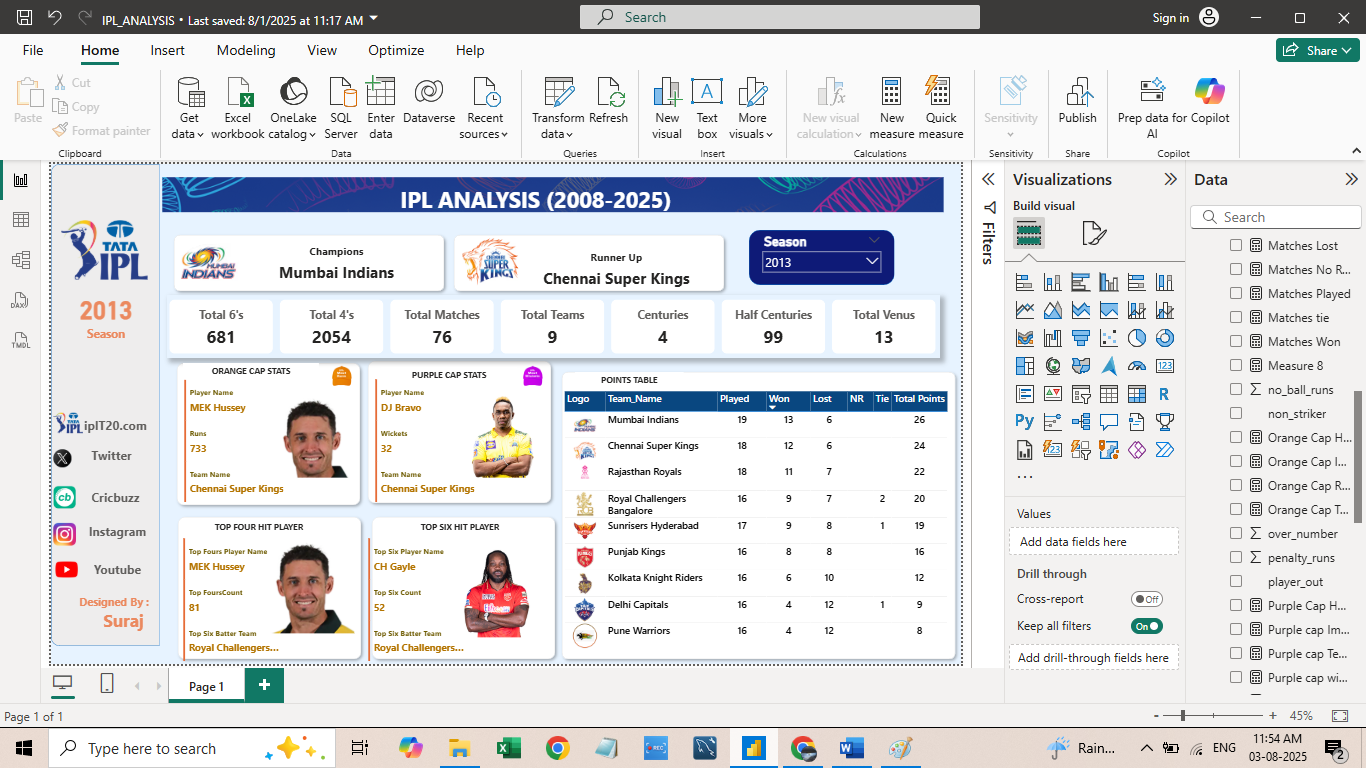

This screenshot's page, from the dashboard's own definition file:
{"tool":"powerbi","page":{"name":"Page 1","canvas":[2000,1100],"ordinal":0},"visuals":[{"type":"shape","box":[1535.4,144.4,320.2,120.7],"z":0},{"type":"shape","box":[1112.9,446.2,887.1,653.5],"z":1000},{"type":"shape","box":[266.2,426.8,424.6,334.4],"z":2000},{"type":"shape","box":[686.4,422.4,424.6,334.4],"z":3000},{"type":"shape","box":[875.6,145.2,616,145.2],"z":4000},{"type":"shape","box":[259.6,145.2,616,145.2],"z":5000},{"type":"image","box":[239.8,22,1729.2,90.2],"z":6000},{"type":"shape","box":[0,0,238.8,1060.4],"z":7000},{"type":"textbox","box":[741.4,39.6,651.2,88],"z":8000},{"type":"slicer","fields":{"Values":["ipl_matches_data.season"]},"box":[1556.4,147,280.8,118.1],"z":9000},{"type":"cardVisual","fields":{"Data":["ipl_matches_data.Season Winner"]},"box":[380.6,158.4,495,118.8],"z":10000},{"type":"cardVisual","fields":{"Data":["ipl_matches_data.Season Winner Logo"]},"box":[259.6,127.6,160.6,154],"z":11000},{"type":"cardVisual","fields":{"Data":["ipl_matches_data.Runner Up"]},"box":[996.6,171.6,495,118.8],"z":12000},{"type":"cardVisual","fields":{"Data":["ball_by_ball_data.Runnerup Logo"]},"box":[875.6,127.6,158.4,145.2],"z":13000},{"type":"cardVisual","fields":{"Data":["ball_by_ball_data.Total 6's","ball_by_ball_data.Total 4's","ball_by_ball_data.Total Matches","ball_by_ball_data.Total Teams","ball_by_ball_data.Centuries","ball_by_ball_data.Half Centuries","ball_by_ball_data.Total Venus"]},"box":[254.6,288.7,1700.8,139.1],"z":14000},{"type":"cardVisual","fields":{"Data":["ball_by_ball_data.Orange Cap Holder","ball_by_ball_data.Orange Cap Runs","ball_by_ball_data.Orange Cap Team Name"]},"box":[288.2,468.6,341,281.6],"z":15000},{"type":"textbox","box":[290.4,437.8,299.2,37.4],"z":16000},{"type":"cardVisual","fields":{"Data":["ball_by_ball_data.Orange Cap Image"]},"box":[457.6,495,250.8,200.2],"z":17000},{"type":"image","box":[589.6,437.8,101.2,57.2],"z":18000},{"type":"shape","box":[268.4,765.6,424.6,334.4],"z":19000},{"type":"shape","box":[695.2,765.6,424.6,334.4],"z":20000},{"type":"cardVisual","fields":{"Data":["ball_by_ball_data.Purple Cap Holder","ball_by_ball_data.Purple cap wicket","ball_by_ball_data.Purple cap Team"]},"box":[708.4,468.6,341,281.6],"z":21000},{"type":"textbox","box":[726,446.6,299.2,37.4],"z":22000},{"type":"cardVisual","fields":{"Data":["ball_by_ball_data.Purple cap Image"]},"box":[871.2,484,250.8,211.2],"z":23000},{"type":"image","box":[1009.8,437.8,101.2,57.2],"z":24000},{"type":"cardVisual","fields":{"Data":["ball_by_ball_data.Top Fours Player Name","ball_by_ball_data.Top FoursCount","ball_by_ball_data.Top Fours Batter Team"]},"box":[286,818.4,244.2,281.6],"z":25000},{"type":"textbox","box":[308,781,299.2,37.4],"z":26000},{"type":"cardVisual","fields":{"Data":["ball_by_ball_data.Top Fours Player Image"]},"box":[442.2,809.6,250.8,246.4],"z":27000},{"type":"cardVisual","fields":{"Data":["ball_by_ball_data.Top Six Player Name","ball_by_ball_data.Top Six Count","ball_by_ball_data.Top Six Batter Team"]},"box":[693,818.4,244.2,281.6],"z":28000},{"type":"textbox","box":[750.2,781,299.2,37.4],"z":29000},{"type":"cardVisual","fields":{"Data":["ball_by_ball_data.Top Six Player Image"]},"box":[860.2,818.4,250.8,246.4],"z":30000},{"type":"tableEx","fields":{"Values":["teams_data.image_url","teams_data.team_name","ball_by_ball_data.Matches Played","ball_by_ball_data.Matches Won","ball_by_ball_data.Matches Lost","ball_by_ball_data.Matches No Result","ball_by_ball_data.Matches tie","ball_by_ball_data.Total Points"]},"box":[1123.4,496.1,876.6,593.2],"z":31000},{"type":"textbox","box":[1152.2,456.7,238.8,39.4],"z":32000},{"type":"image","box":[0,519.7,75,100],"z":33000},{"type":"card","fields":{"Values":["ball_by_ball_data.Season"]},"box":[47.2,265.1,149.6,136.5],"z":34000},{"type":"actionButton","box":[47.2,530.2,191.6,89.2],"z":35000},{"type":"image","box":[18.4,39.4,200,299.2],"z":36000},{"type":"image","box":[0,608.9,50,76.1],"z":37000},{"type":"actionButton","box":[36.7,595.8,191.6,89.2],"z":38000},{"type":"image","box":[0,695.5,60,75],"z":39000},{"type":"actionButton","box":[47.2,687.7,191.6,89.2],"z":40000},{"type":"image","box":[0,776.9,60.4,76.1],"z":41000},{"type":"actionButton","box":[49.9,763.8,191.6,89.2],"z":42000},{"type":"image","box":[5.2,853,60.4,76.1],"z":43000},{"type":"actionButton","box":[49.9,847.8,191.6,89.2],"z":44000},{"type":"textbox","box":[57.7,942.3,168,126],"z":45000}]}

Visuals, with their boxes on the page's 2000x1100 design canvas (x1, y1, x2, y2). These are canvas units, not pixel positions in the 1366x768 screenshot, which may show the page scaled, cropped or inside an application window:
shape: bbox=(1535, 144, 1856, 265)
shape: bbox=(1113, 446, 2000, 1100)
shape: bbox=(266, 427, 691, 761)
shape: bbox=(686, 422, 1111, 757)
shape: bbox=(876, 145, 1492, 290)
shape: bbox=(260, 145, 876, 290)
image: bbox=(240, 22, 1969, 112)
shape: bbox=(0, 0, 239, 1060)
textbox: bbox=(741, 40, 1393, 128)
slicer - ipl_matches_data.season: bbox=(1556, 147, 1837, 265)
cardVisual - ipl_matches_data.Season Winner: bbox=(381, 158, 876, 277)
cardVisual - ipl_matches_data.Season Winner Logo: bbox=(260, 128, 420, 282)
cardVisual - ipl_matches_data.Runner Up: bbox=(997, 172, 1492, 290)
cardVisual - ball_by_ball_data.Runnerup Logo: bbox=(876, 128, 1034, 273)
cardVisual - ball_by_ball_data.Total 6's x ball_by_ball_data.Total 4's: bbox=(255, 289, 1955, 428)
cardVisual - ball_by_ball_data.Orange Cap Holder x ball_by_ball_data.Orange Cap Runs: bbox=(288, 469, 629, 750)
textbox: bbox=(290, 438, 590, 475)
cardVisual - ball_by_ball_data.Orange Cap Image: bbox=(458, 495, 708, 695)
image: bbox=(590, 438, 691, 495)
shape: bbox=(268, 766, 693, 1100)
shape: bbox=(695, 766, 1120, 1100)
cardVisual - ball_by_ball_data.Purple Cap Holder x ball_by_ball_data.Purple cap wicket: bbox=(708, 469, 1049, 750)
textbox: bbox=(726, 447, 1025, 484)
cardVisual - ball_by_ball_data.Purple cap Image: bbox=(871, 484, 1122, 695)
image: bbox=(1010, 438, 1111, 495)
cardVisual - ball_by_ball_data.Top Fours Player Name x ball_by_ball_data.Top FoursCount: bbox=(286, 818, 530, 1100)
textbox: bbox=(308, 781, 607, 818)
cardVisual - ball_by_ball_data.Top Fours Player Image: bbox=(442, 810, 693, 1056)
cardVisual - ball_by_ball_data.Top Six Player Name x ball_by_ball_data.Top Six Count: bbox=(693, 818, 937, 1100)
textbox: bbox=(750, 781, 1049, 818)
cardVisual - ball_by_ball_data.Top Six Player Image: bbox=(860, 818, 1111, 1065)
tableEx - teams_data.image_url x teams_data.team_name: bbox=(1123, 496, 2000, 1089)
textbox: bbox=(1152, 457, 1391, 496)
image: bbox=(0, 520, 75, 620)
card - ball_by_ball_data.Season: bbox=(47, 265, 197, 402)
actionButton: bbox=(47, 530, 239, 619)
image: bbox=(18, 39, 218, 339)
image: bbox=(0, 609, 50, 685)
actionButton: bbox=(37, 596, 228, 685)
image: bbox=(0, 696, 60, 770)
actionButton: bbox=(47, 688, 239, 777)
image: bbox=(0, 777, 60, 853)
actionButton: bbox=(50, 764, 242, 853)
image: bbox=(5, 853, 66, 929)
actionButton: bbox=(50, 848, 242, 937)
textbox: bbox=(58, 942, 226, 1068)
